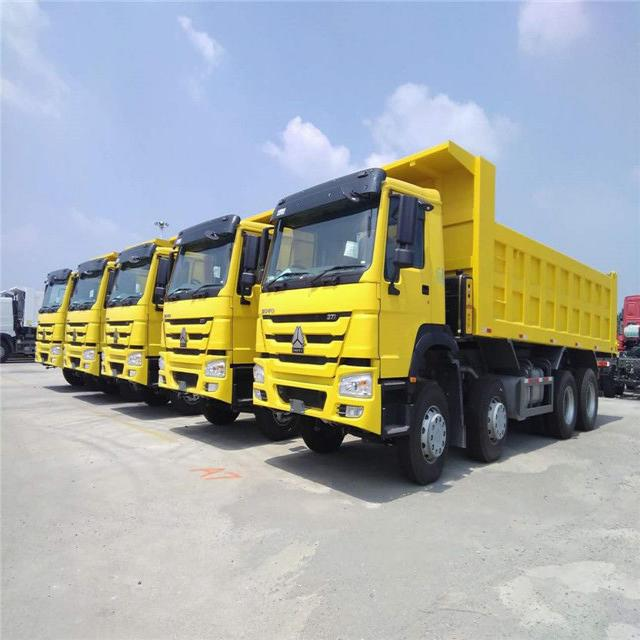Truck: (255, 139, 619, 478), (150, 203, 272, 435), (102, 230, 170, 392), (59, 250, 108, 381), (30, 257, 72, 376)
